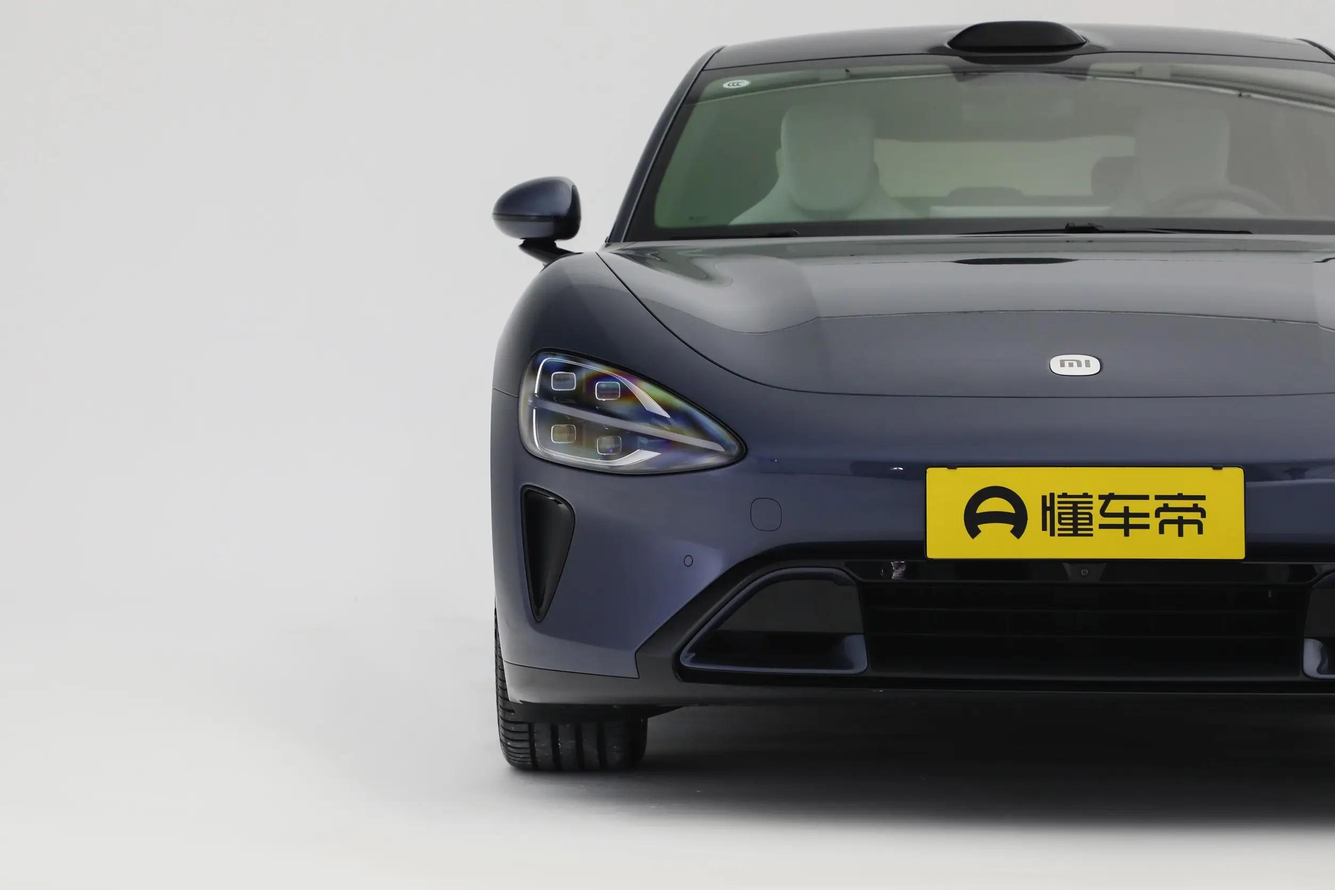XIAOMI: (1049, 355, 1101, 376)
